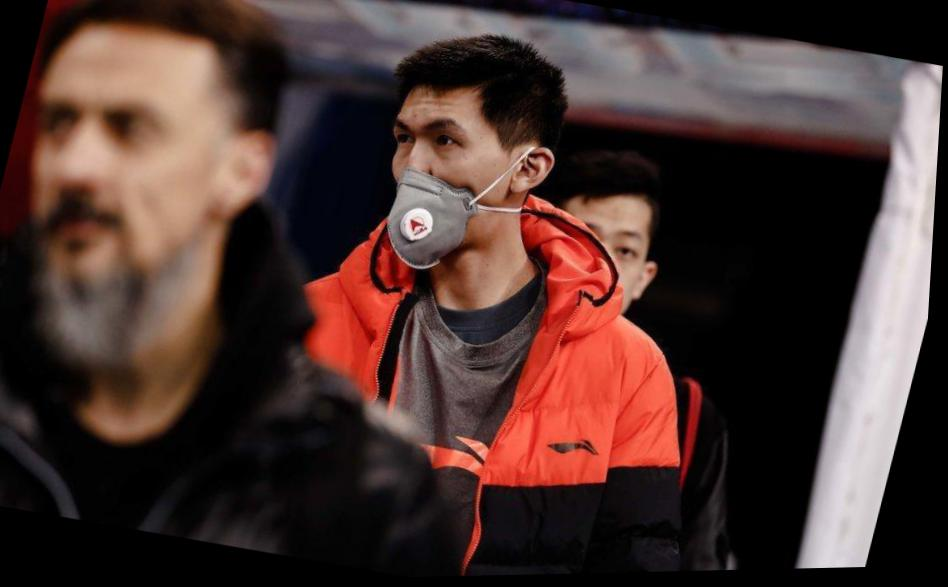NONE: (9, 57, 256, 305), (533, 203, 663, 332)
WRONG: (368, 97, 517, 266)
